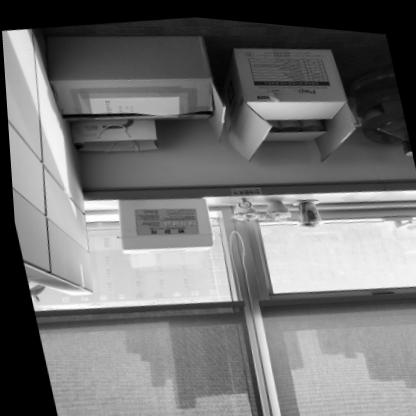DDL: (112, 184, 213, 260)
